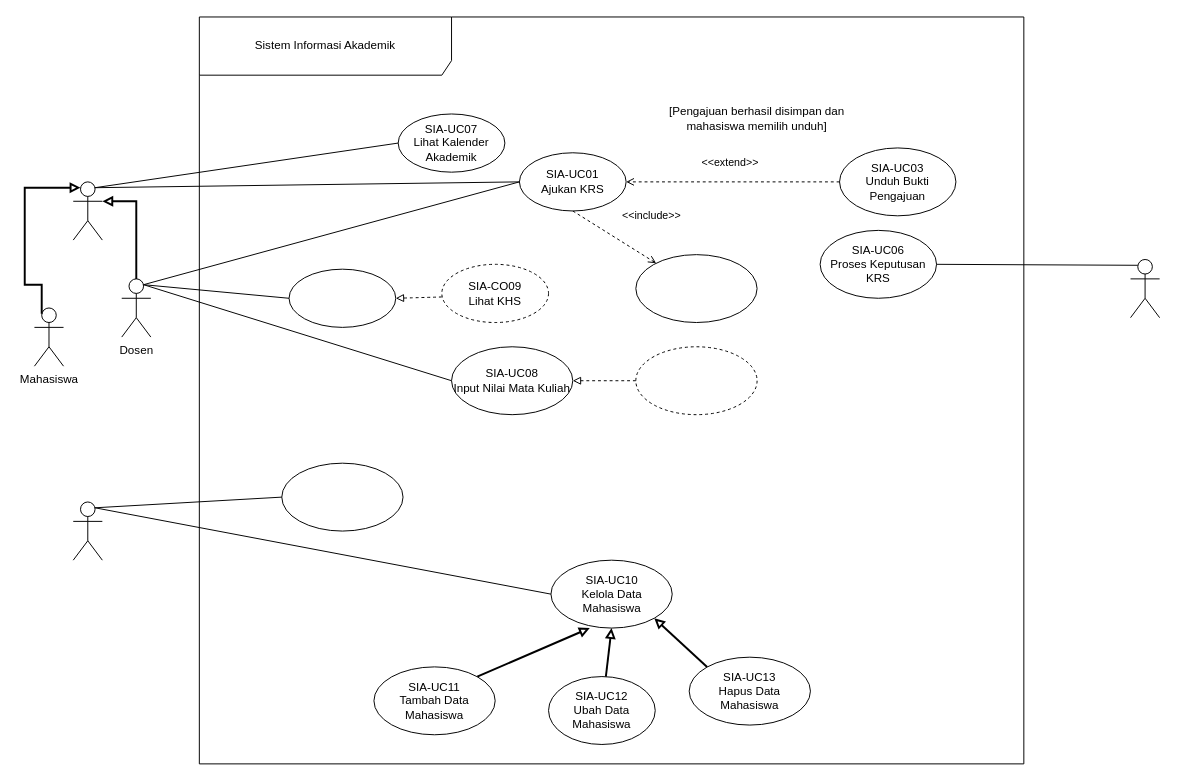
The diagram is 1191 pixels wide and 781 high, and some of its shapes have lost their labels. The box of each missing label's shape, as (x1, y1, x2, y2) in pixels:
Admin Akademik: (72, 501, 102, 560)
Civitas Akademika: (72, 181, 102, 240)
Dosen Wali: (1130, 259, 1160, 318)
SIA-CO08 Input Nilai Mata Kuliah: (635, 346, 757, 415)
SIA-UC02 Kelola Jadwal Kuliah: (281, 462, 403, 531)
SIA-UC04 Validasi KRS: (635, 254, 757, 323)
SIA-UC09 Lihat KHS: (288, 268, 396, 327)
